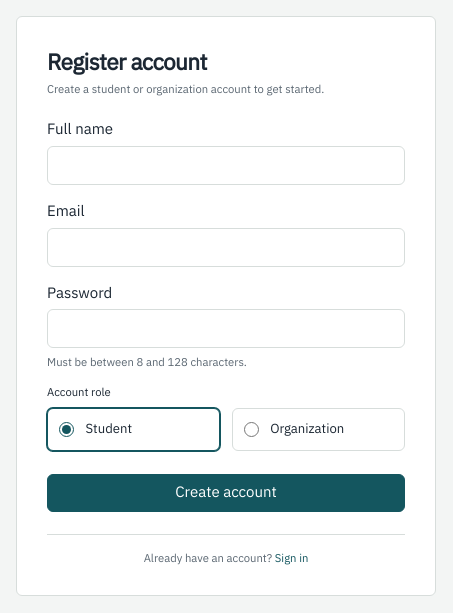
Scenario: RegisterPage Component › validates client fields including short password length
This screenshot has width=453, height=613.
Type "Jane Doe" into the field labelled "Full name" at (226, 165), box [47,146,405,185]
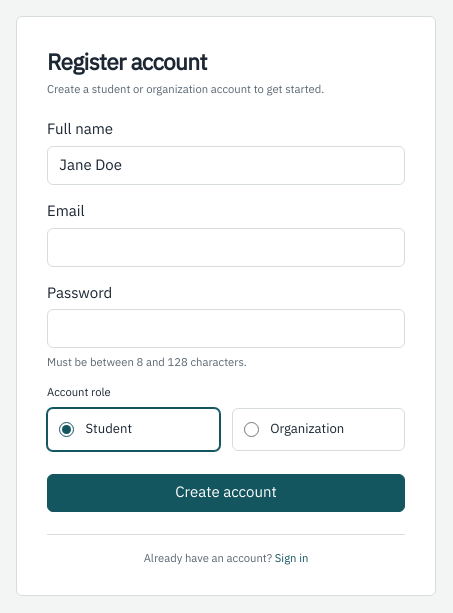
Type "jane@example.com" into the field labelled "Email" at (226, 247), box [47,228,405,266]
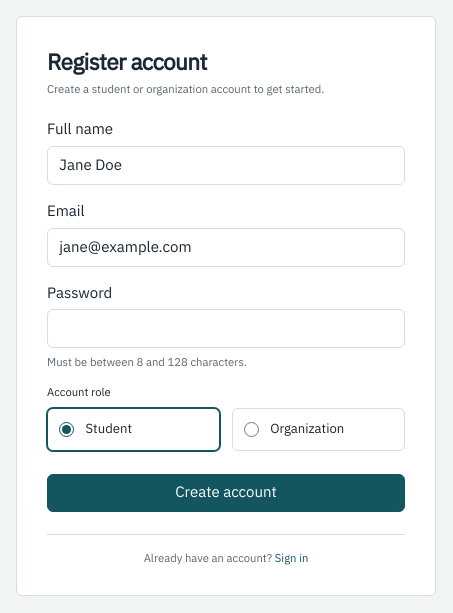
Type "short" into the password field labelled "Password" at (226, 329), box [47,309,405,348]
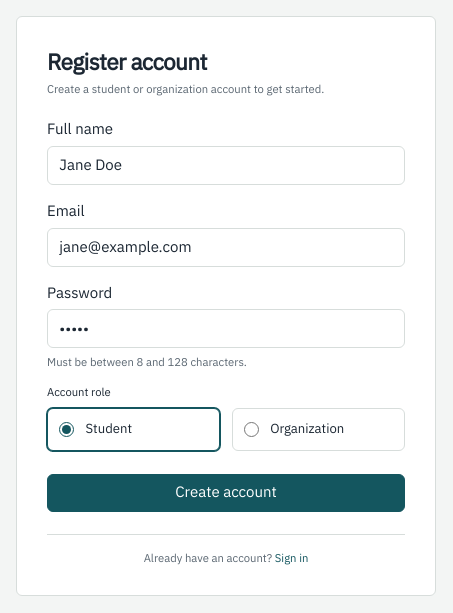
Click the button "Create account" at (226, 493), box [47,474,405,512]
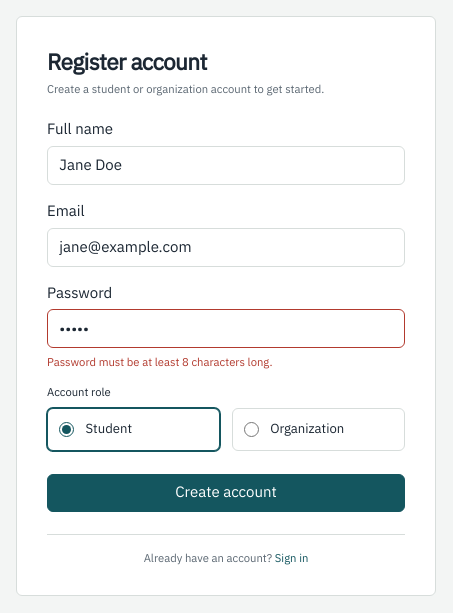
Expected: the text "Password must be at least 8 characters long." is shown, [47,354,272,369]
